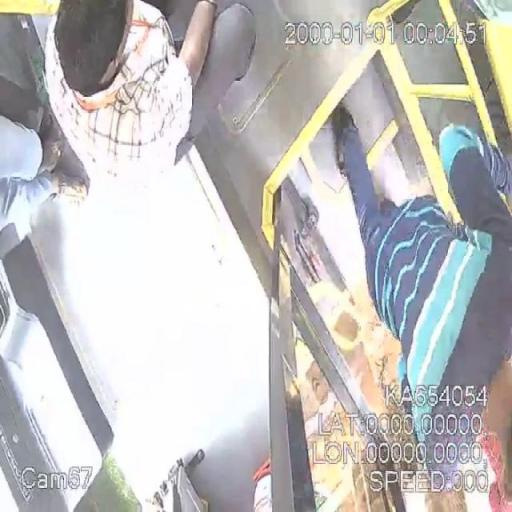persona: (329, 104, 511, 510), (44, 1, 258, 200)
